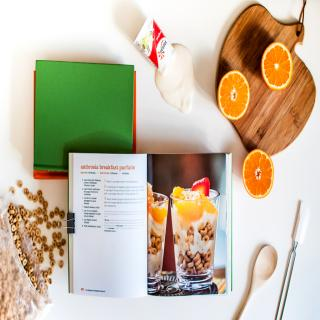Orange: (260, 41, 294, 91), (219, 72, 248, 118), (244, 150, 272, 197)
